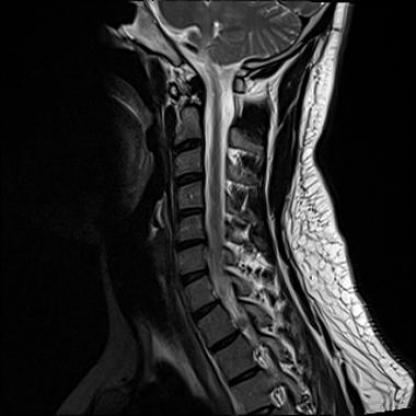Disc Bulgerotation: (174, 234, 207, 252)
